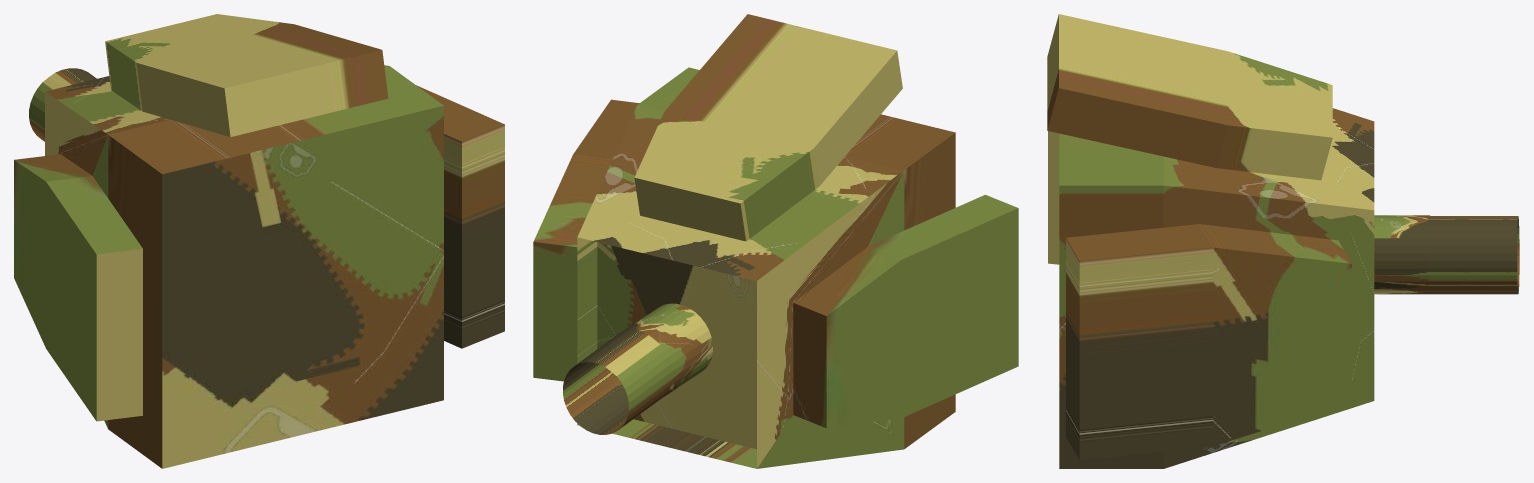
File: canon_tank1.obj
3 renders of one model, left to right at view 1: azimuth 30°, elevation 25°; view 2: azimuth 150°, elevation 25°; view 3: azimuth 270°, elevation 25°, orthographic. The views are drawn at different scales.
Visible parts, largest first — view 1: Cilindro; view 2: Cilindro; view 3: Cilindro.
Part boxes in pixels (left/top/right/bottom): Cilindro: left=14, top=14, right=504, bottom=468; Cilindro: left=533, top=14, right=1018, bottom=468; Cilindro: left=1047, top=14, right=1519, bottom=468.
Size of the model in its own units: 4.42 by 3.69 by 4.49.
